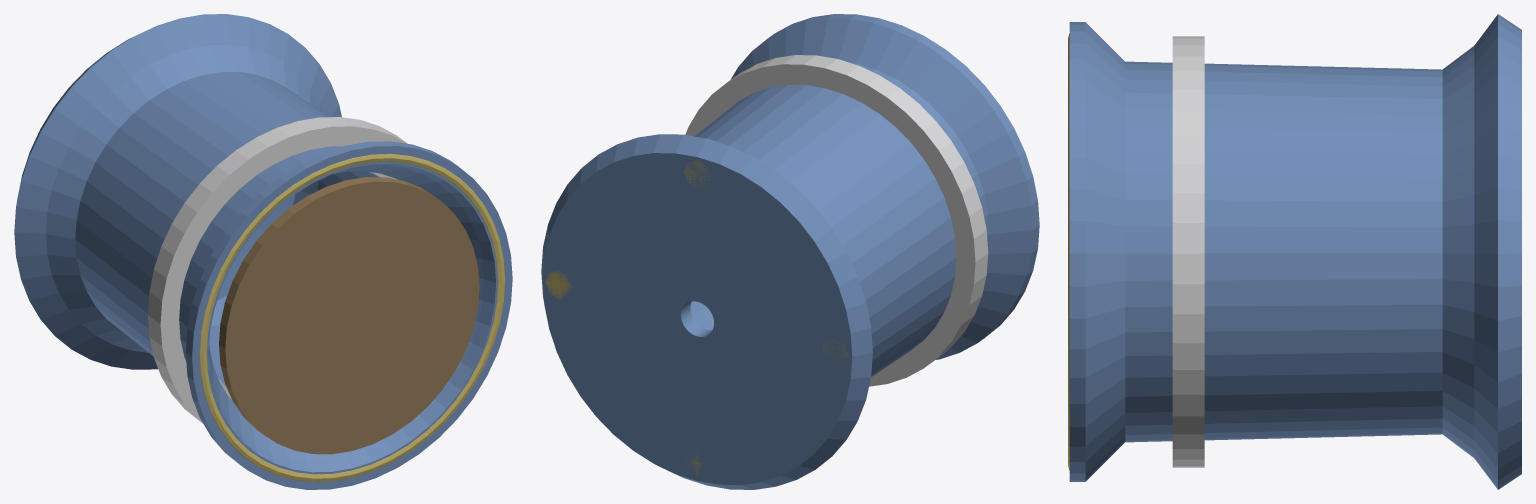
Rendered from pot_rare_1.glb.
The picture shows the model from 3 angles, left to right: view 1: azimuth 30°, elevation 25°; view 2: azimuth 150°, elevation 25°; view 3: azimuth 270°, elevation 25°; orthographic projection. The views are drawn at different scales.
Parts seen in each view (by area): view 1: world; view 2: world; view 3: world.
Part boxes in pixels (x1,y1,x2,y2): world: (14, 14, 512, 489); world: (541, 14, 1039, 489); world: (1068, 14, 1521, 489).
Bounding box in the file's own units: 6 × 6 × 5.72.
